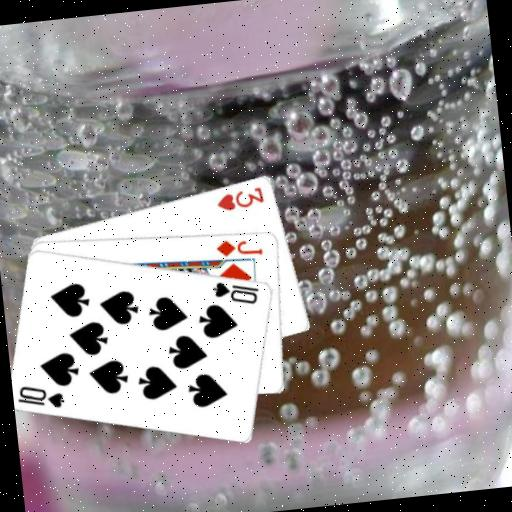10S: (14, 379, 68, 414), (209, 275, 262, 310)
3H: (213, 183, 267, 213)
JD: (212, 233, 265, 262)
